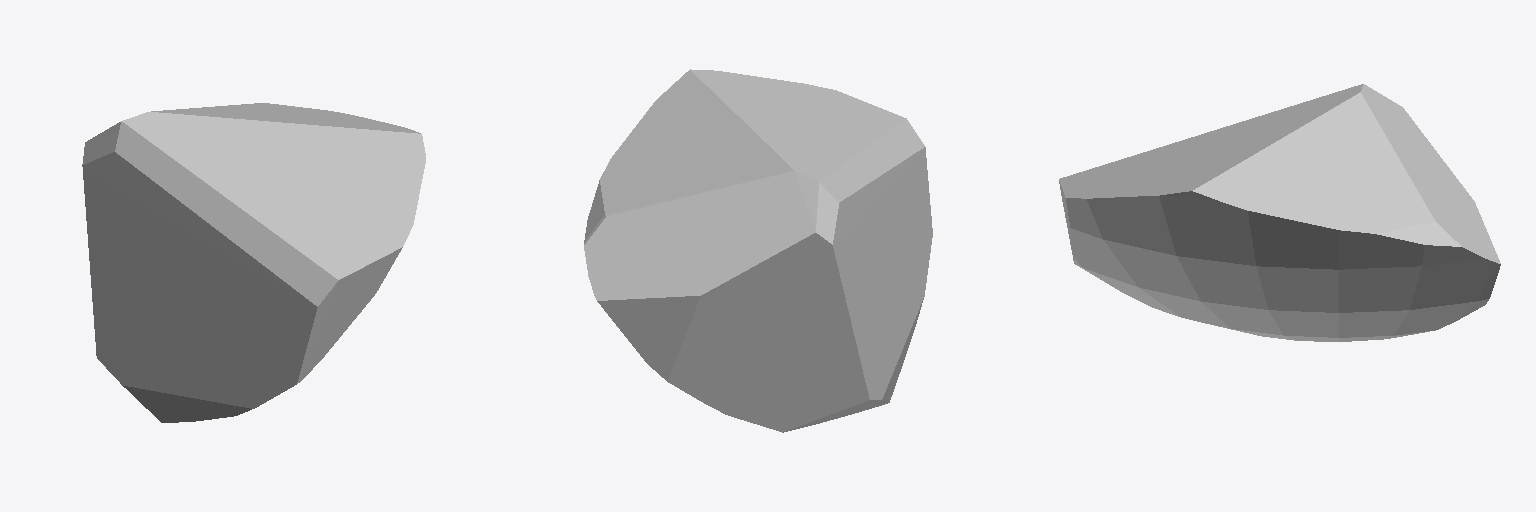
File: Sphere_Cell_Fracture60.obj
The picture shows the model from 3 angles: view 1: azimuth 30°, elevation 25°; view 2: azimuth 150°, elevation 25°; view 3: azimuth 270°, elevation 25°; orthographic projection.
Size of the model in its own units: 0.59 by 0.5663 by 0.8655.